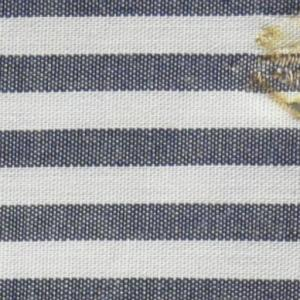Damage: (220, 29, 300, 91)
Oil Stain: (246, 13, 300, 124)
